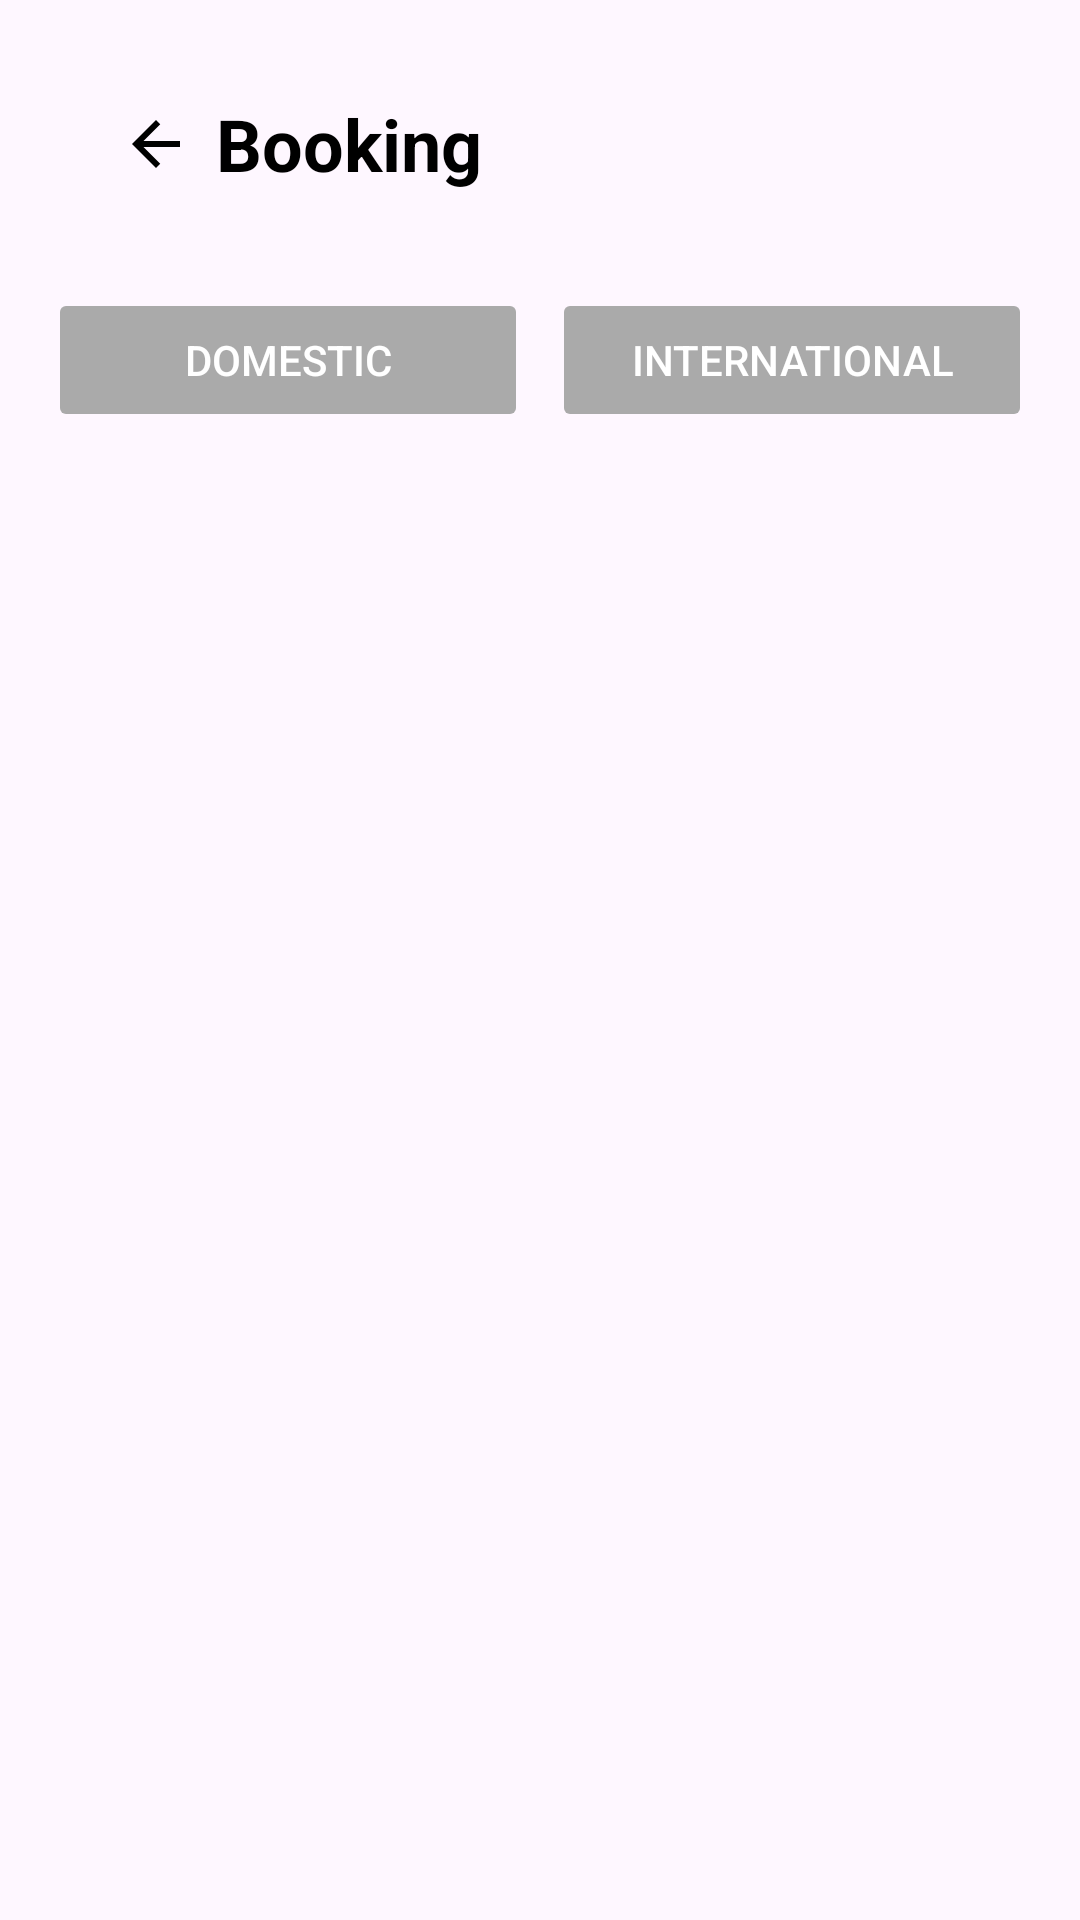

Locate icon controls on the screen. Image size 1080×1920, boxes as bbox(x1, y1, x2, y2).
Back: bbox(132, 120, 180, 168)
